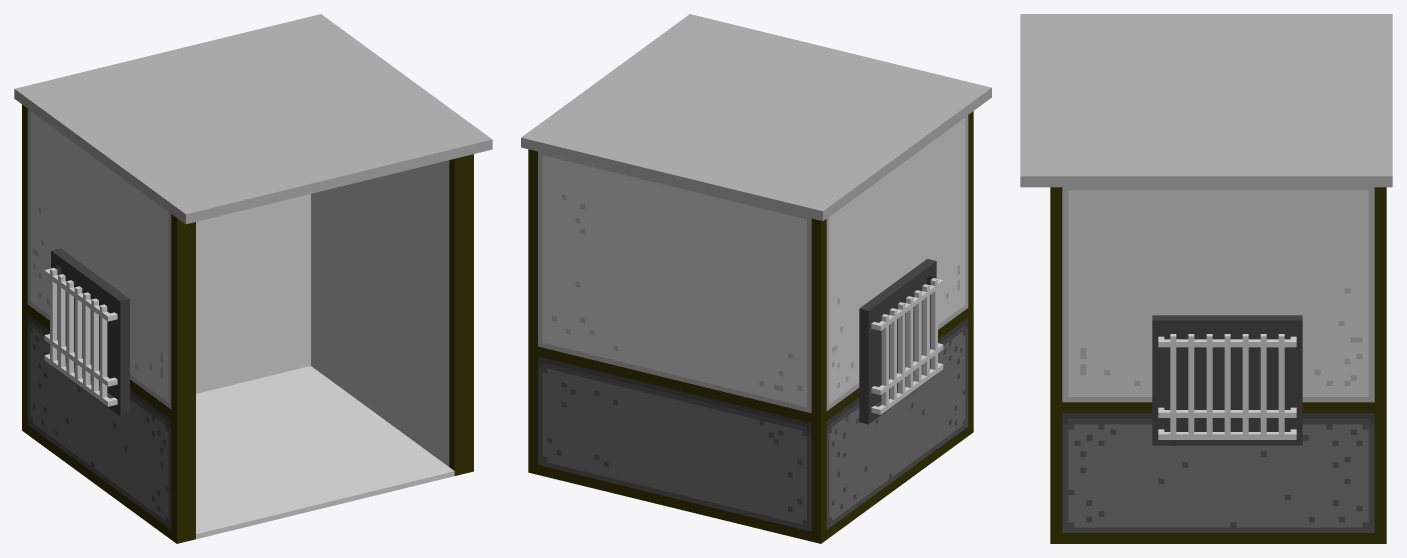
The model's file is typeSixteen.glb.
3 views of the same model, side by side, from view 1: azimuth 30°, elevation 25°; view 2: azimuth 150°, elevation 25°; view 3: azimuth 270°, elevation 25° (orthographic). The views are drawn at different scales.
Visible parts, largest first — view 1: ObjObject; view 2: ObjObject; view 3: ObjObject.
Part boxes in pixels (<box>): ObjObject: <box>14,14,492,543</box>; ObjObject: <box>521,14,991,543</box>; ObjObject: <box>1020,14,1392,543</box>.
Bounding box in the file's own units: 7 × 6.8 × 6.2.
2 materials, 1 textured.
